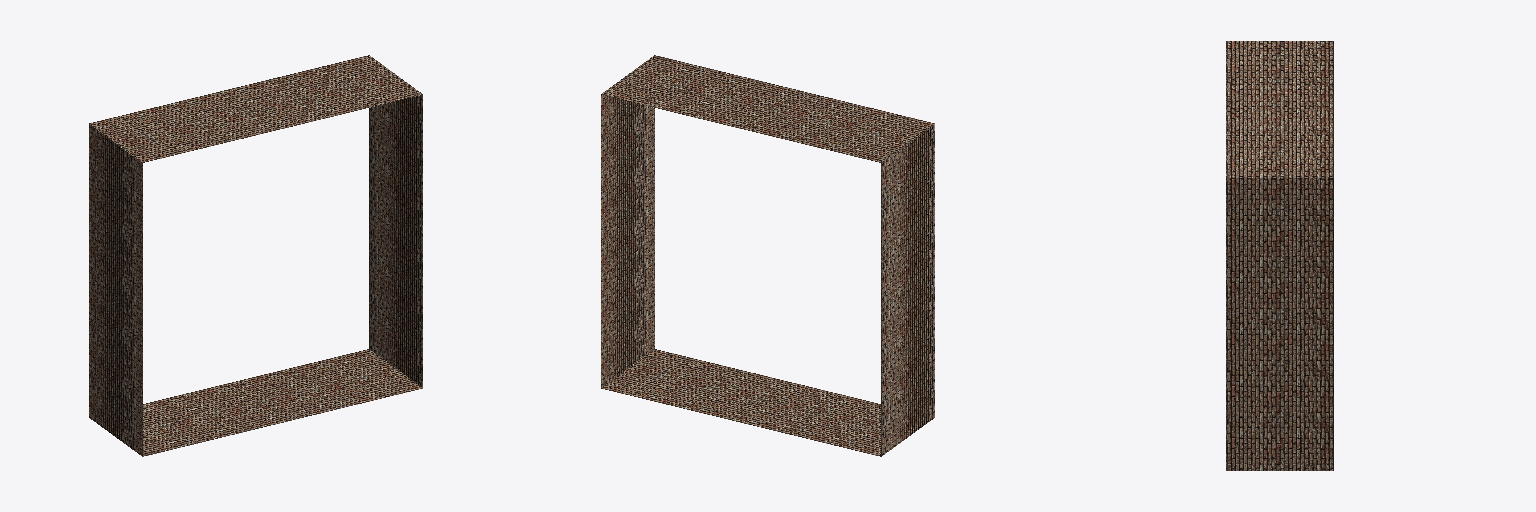
3 views of the same model, side by side, from view 1: azimuth 30°, elevation 25°; view 2: azimuth 150°, elevation 25°; view 3: azimuth 270°, elevation 25° (orthographic).
Visible parts, largest first — view 1: Plane, Plane.002, Plane.001, Plane.003; view 2: Plane, Plane.002, Plane.001, Plane.003; view 3: Plane.001, Plane.002.
Part boxes in pixels (x1,y1,x2,y2): Plane: (89, 124, 142, 456); Plane.002: (89, 55, 422, 162); Plane.001: (369, 95, 422, 387); Plane.003: (143, 349, 422, 456); Plane: (881, 124, 934, 456); Plane.002: (601, 55, 934, 162); Plane.001: (601, 95, 654, 387); Plane.003: (601, 349, 880, 456); Plane.001: (1226, 178, 1333, 470); Plane.002: (1226, 41, 1333, 177).
Bounding box in the file's own units: 3 × 3 × 1.
Materials: 1 (1 with a texture image).